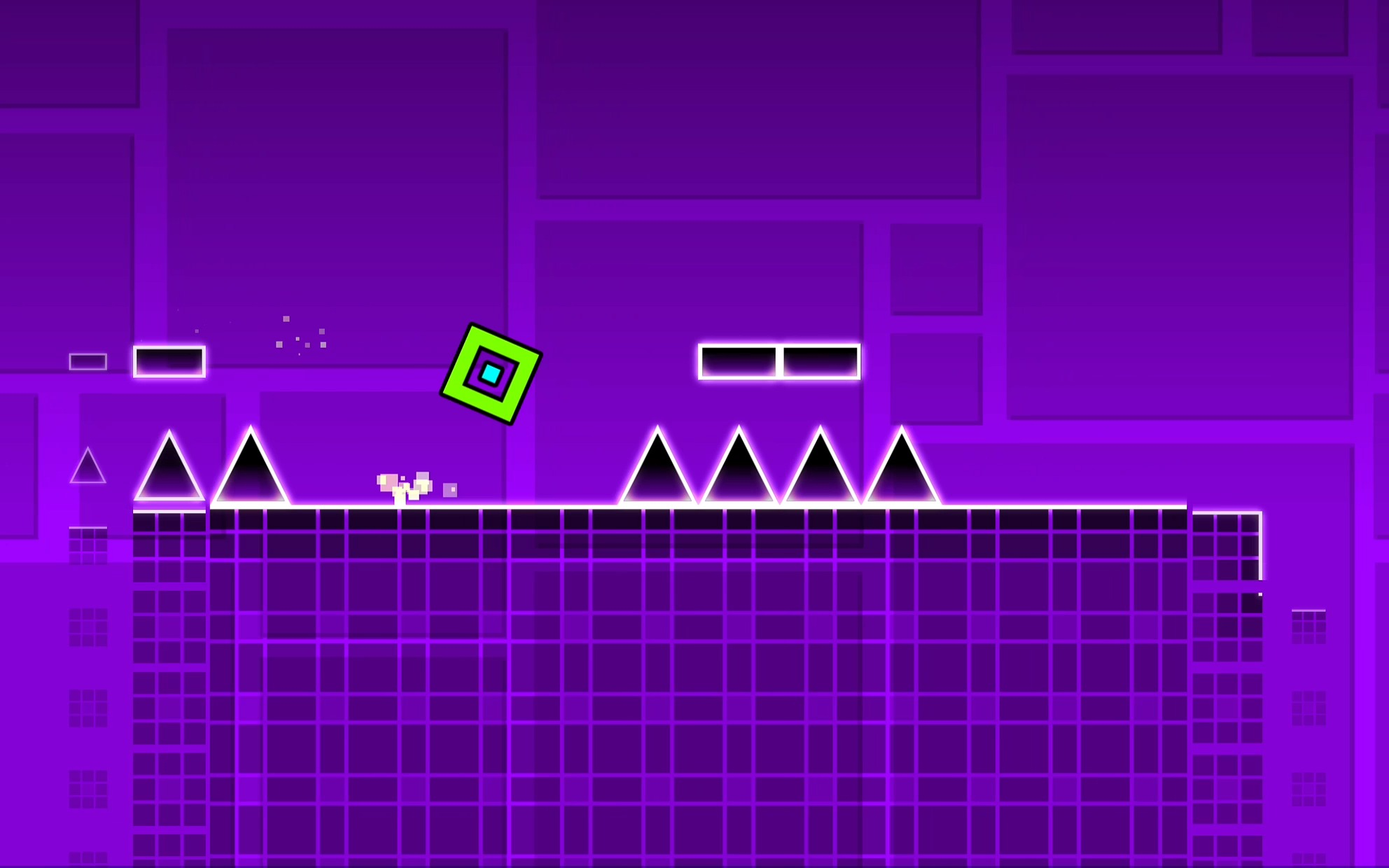Block2: (143, 505, 1252, 826)
Block3: (692, 343, 863, 380), (132, 344, 206, 377)
Player: (438, 325, 541, 424)
Spike: (213, 429, 289, 508), (624, 427, 696, 504), (868, 429, 941, 504), (703, 429, 775, 505), (785, 428, 856, 504), (139, 432, 206, 501), (72, 449, 109, 485)
